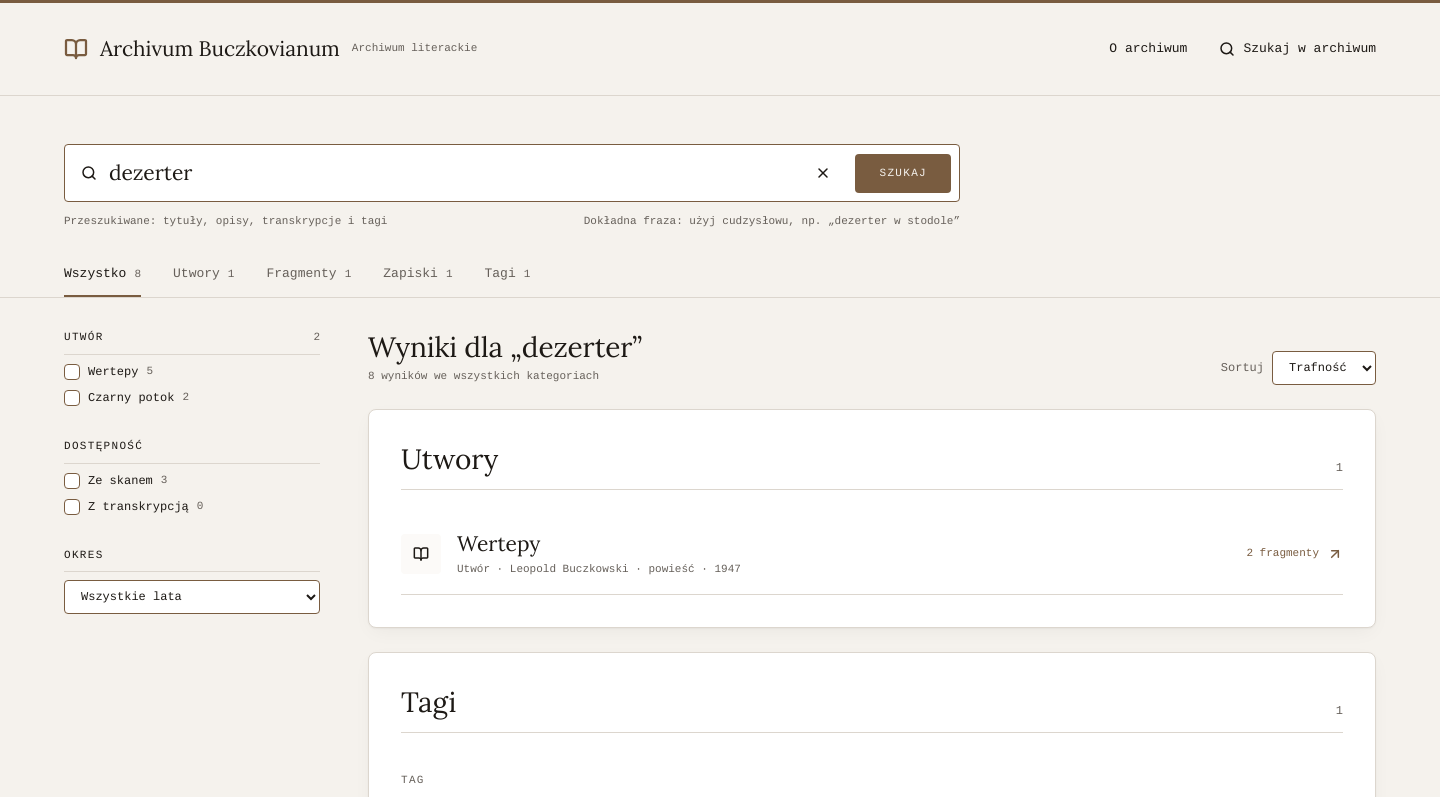
Scenario: SearchPage tabs and filters › US-RA-16 AC2: while results load, the previous filters stay, dimmed
Expected: the text "8 wyników we wszystkich kategoriach" is shown, [368,370,599,382]
What coordinates should you click on to do the following:
click the checkbox labelled "Wertepy 5"
I would click on:
 (72, 372)
Its box is [64,364,80,380].
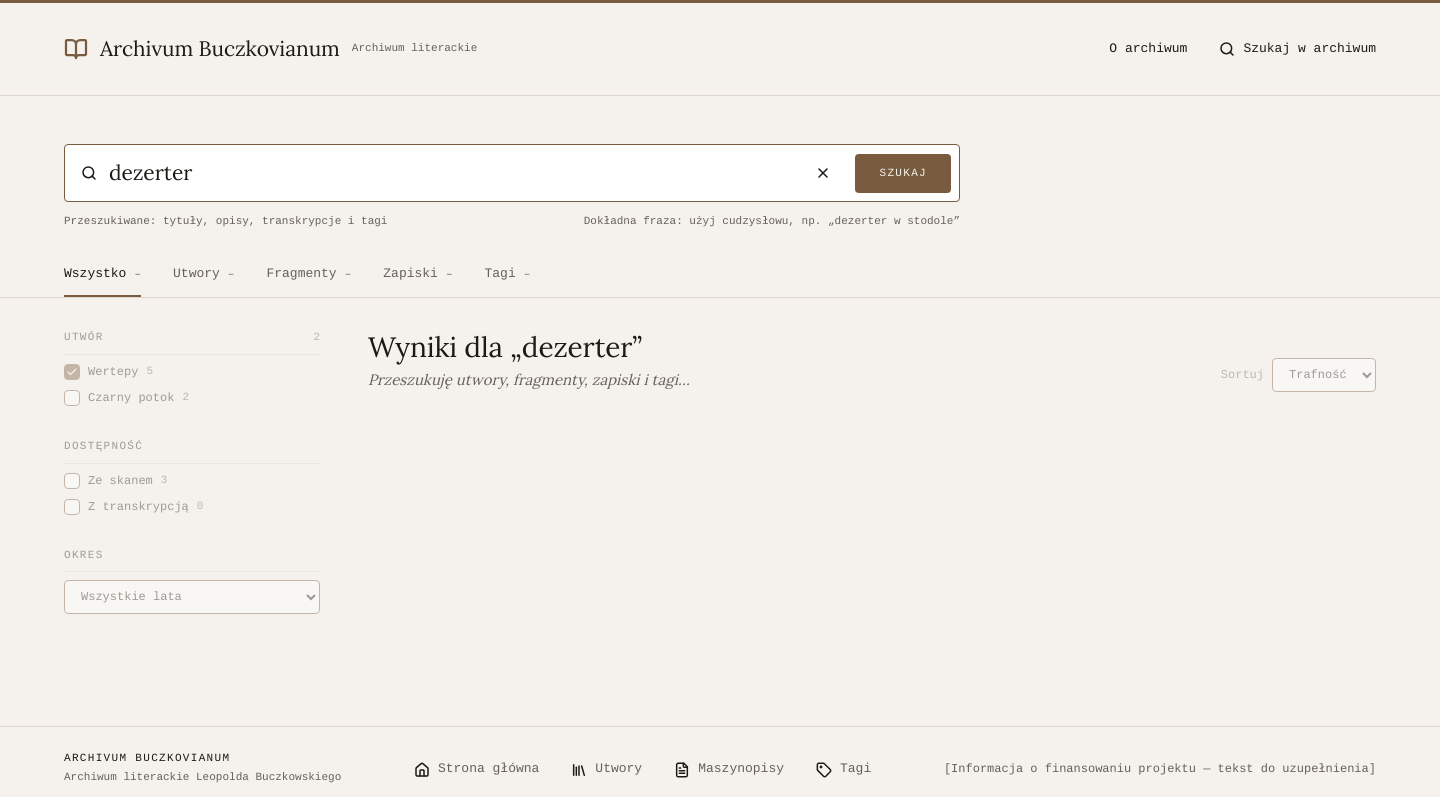
Expected: the checkbox labelled "Wertepy 5" is checked, [64,364,80,380]
Expected: the text "Przeszukuję utwory, fragmenty, zapiski i tagi…" is shown, [368,369,690,392]
